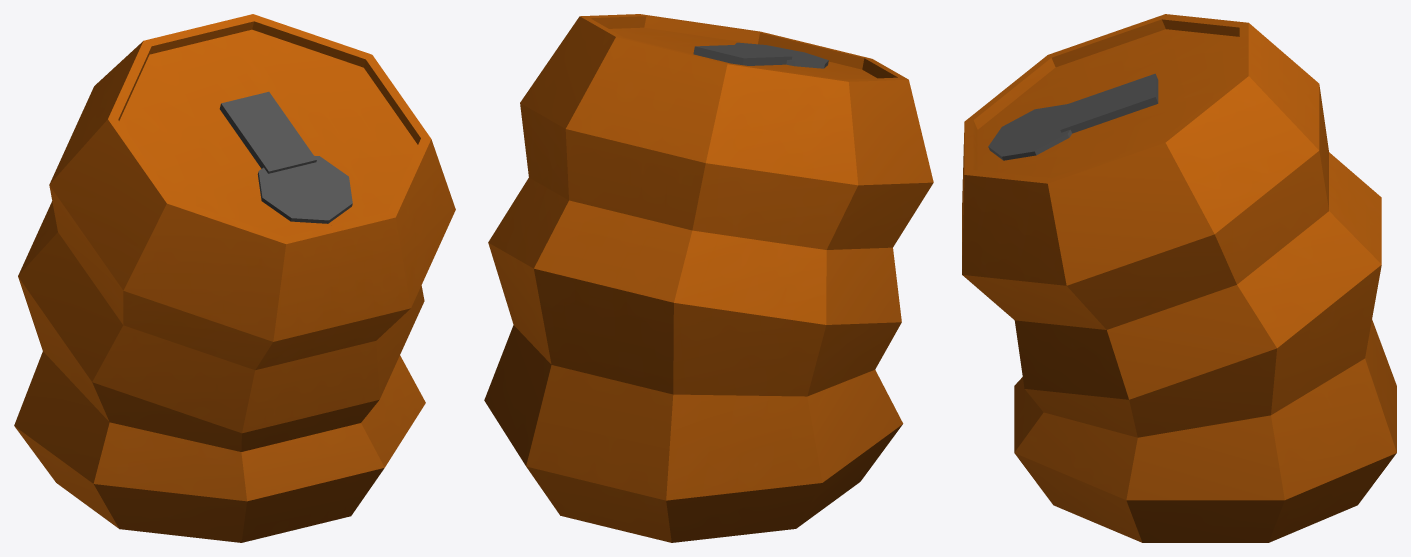
The model's file is Bottle_orange_2.fbx.
3 views of the same model, side by side, from view 1: azimuth 30°, elevation 25°; view 2: azimuth 150°, elevation 25°; view 3: azimuth 270°, elevation 25° (orthographic). The views are drawn at different scales.
Parts seen in each view (by area): view 1: Bottle_orange_wrinkled; view 2: Bottle_orange_wrinkled; view 3: Bottle_orange_wrinkled.
Part boxes in pixels (left/top/right/bottom): Bottle_orange_wrinkled: left=14, top=14, right=455, bottom=542; Bottle_orange_wrinkled: left=484, top=14, right=933, bottom=542; Bottle_orange_wrinkled: left=962, top=14, right=1396, bottom=542.
Size of the model in its own units: 5.15 by 6.37 by 5.85.
